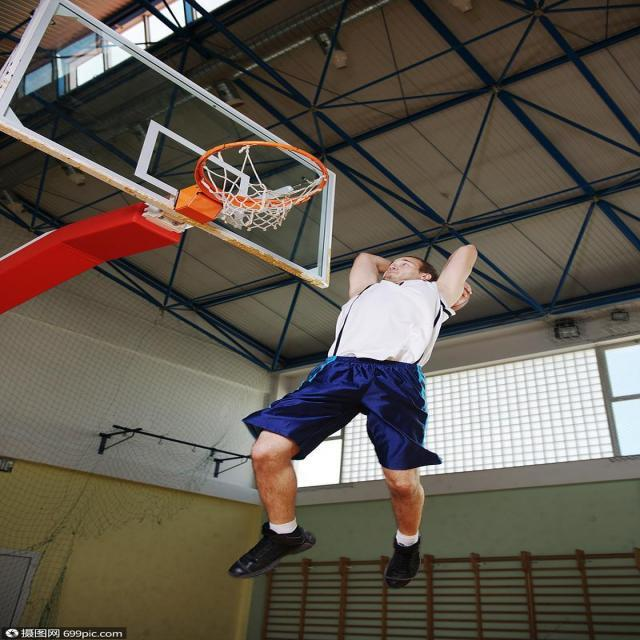rim: (452, 285, 469, 312)
